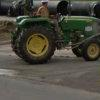Tractor: (10, 5, 100, 69)
